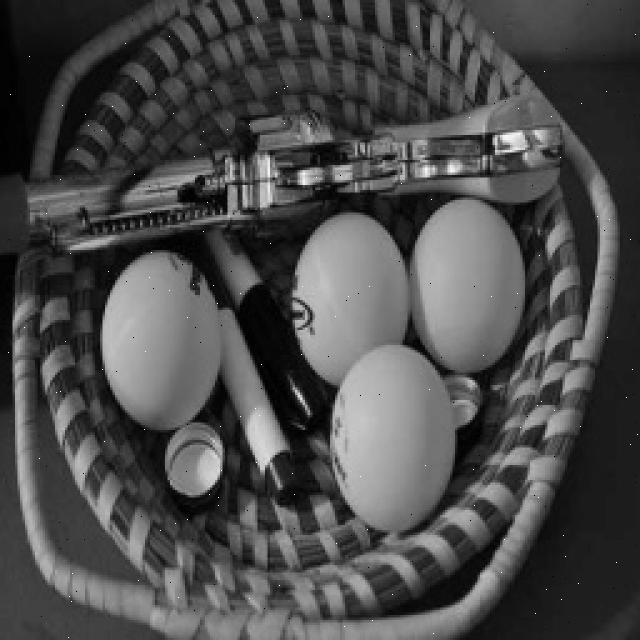ping-pong-ball: (331, 341, 457, 534), (104, 252, 224, 428), (292, 211, 408, 388), (414, 194, 524, 373)
